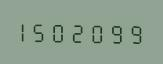five: (35, 19, 52, 43)
nine: (125, 20, 142, 45), (107, 20, 124, 44)
one: (17, 18, 34, 43)
two: (71, 19, 88, 44)
zero: (53, 19, 70, 43), (89, 20, 106, 44)
